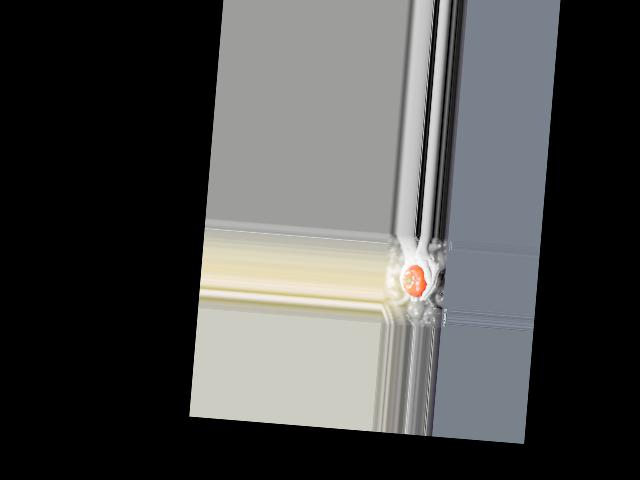tomato: (401, 263, 428, 297)
